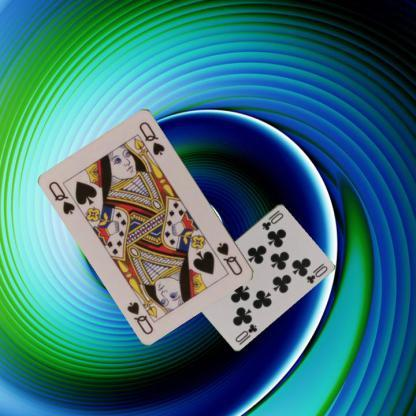10c: (259, 208, 285, 231), (232, 321, 258, 344)
Qs: (214, 240, 245, 277), (46, 179, 77, 216)
